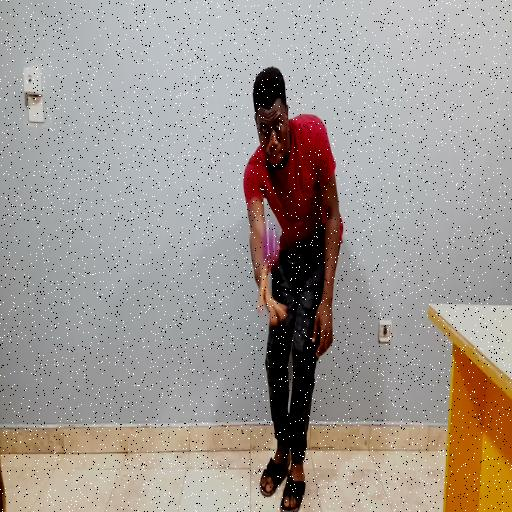plastic-ball: (263, 224, 280, 264)
